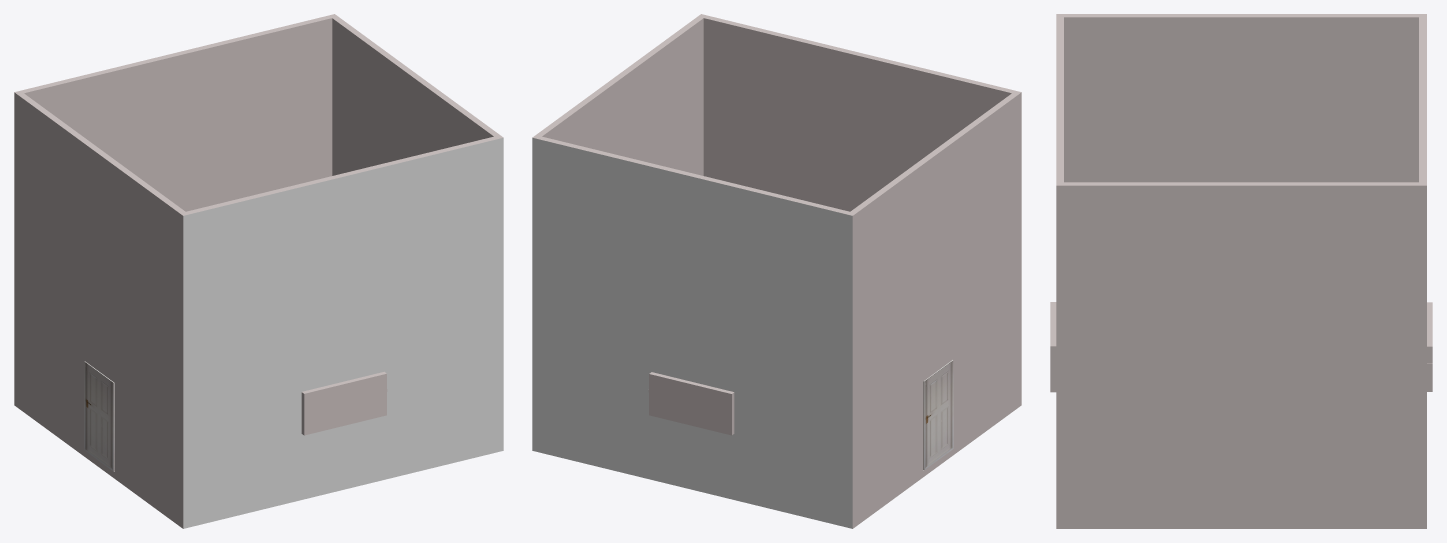
The model's file is oficina.fbx.
3 renders of one model, left to right at view 1: azimuth 30°, elevation 25°; view 2: azimuth 150°, elevation 25°; view 3: azimuth 270°, elevation 25°, orthographic. The views are drawn at different scales.
Parts seen in each view (by area): view 1: Room, Puerta; view 2: Room, Puerta; view 3: Room.
Boxes of the visible parts, x1,y1,x2,y2 form: Room: [14, 14, 503, 528]; Puerta: [84, 361, 114, 471]; Room: [532, 14, 1021, 528]; Puerta: [923, 360, 953, 469]; Room: [1050, 14, 1432, 528].
Size of the model in its own units: 11756 by 10948 by 11044.
